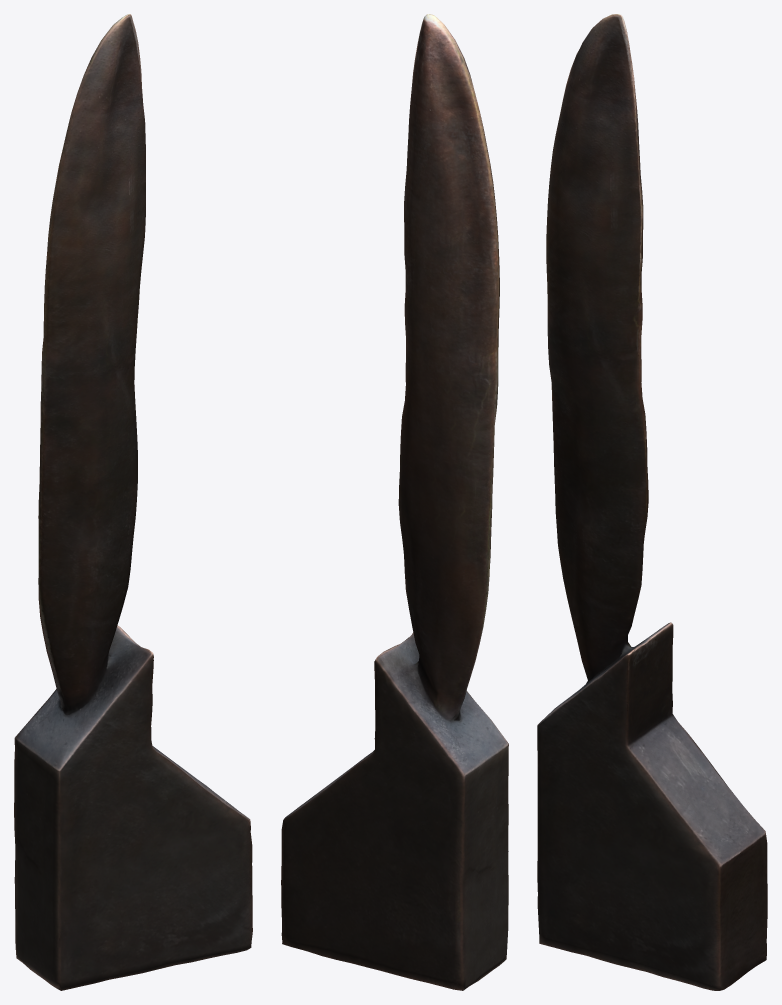
Rendered from YYRA.glb.
3 renders of one model, left to right at view 1: azimuth 30°, elevation 25°; view 2: azimuth 150°, elevation 25°; view 3: azimuth 330°, elevation 25°, orthographic. The views are drawn at different scales.
Parts seen in each view (by area): view 1: YYRA_low; view 2: YYRA_low; view 3: YYRA_low.
Part boxes in pixels (x1,y1,x2,y2): YYRA_low: (14,14,252,990); YYRA_low: (281,14,508,990); YYRA_low: (537,14,767,990).
Size of the model in its own units: 0.6787 by 3.17 by 0.3199.
Materials: 1 (1 with a texture image).
